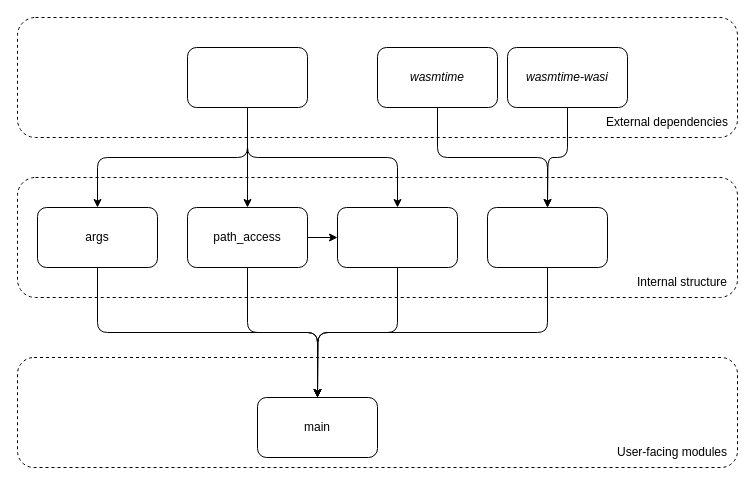
The diagram is 755 pixels wide and 485 high, and some of its shapes have lost their labels. The shapes that lost their labels are listed below. From the top down, each one's centre as x and y in pixels, then its label:
At point 247,77: "rust-landlock".
At point 397,237: "landlock".
At point 547,237: "wasm".
